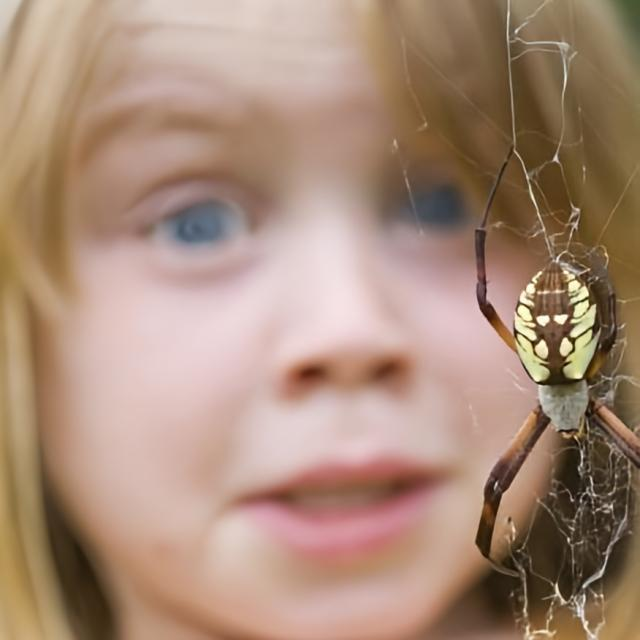fear: (38, 0, 575, 640)
